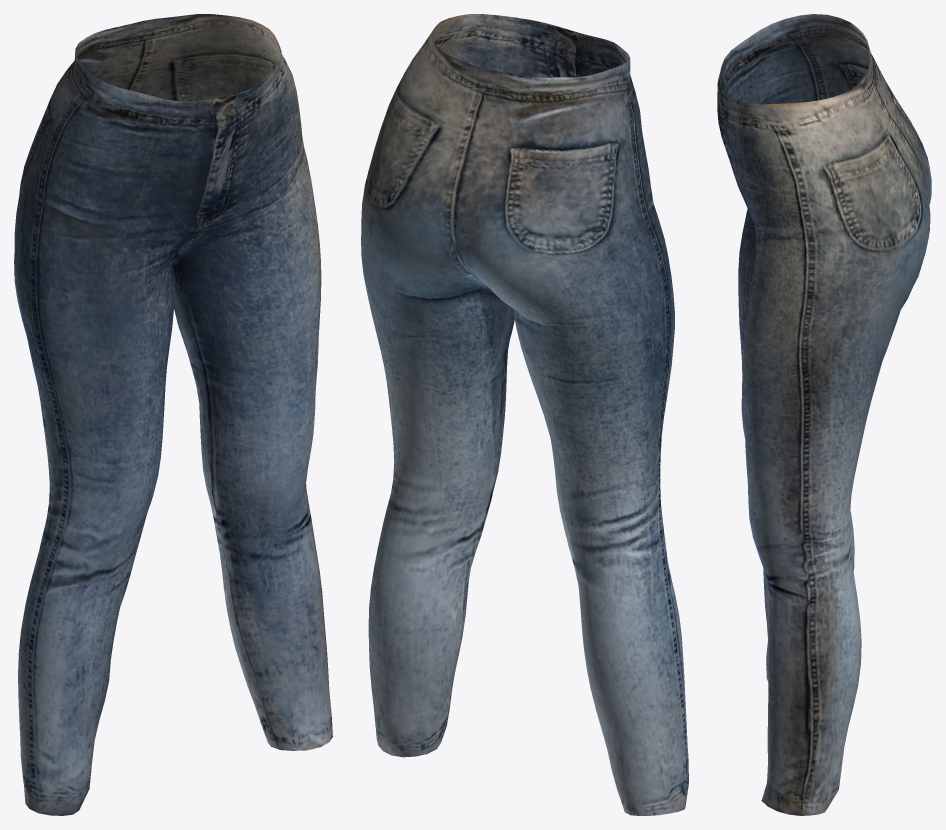
3 renders of one model, left to right at view 1: azimuth 30°, elevation 25°; view 2: azimuth 150°, elevation 25°; view 3: azimuth 270°, elevation 25°, orthographic. The views are drawn at different scales.
Visible parts, largest first — view 1: Jeans_02; view 2: Jeans_02; view 3: Jeans_02.
Boxes of the visible parts, x1=… form: Jeans_02: x1=14, y1=14, x2=332, y2=815; Jeans_02: x1=361, y1=14, x2=688, y2=815; Jeans_02: x1=717, y1=14, x2=931, y2=815.
Bounding box in the file's own units: 0.3593 × 0.8395 × 0.2321.
1 material, 1 textured.
